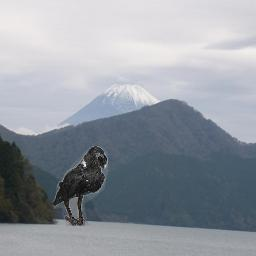Crow: (53, 146, 108, 226)
